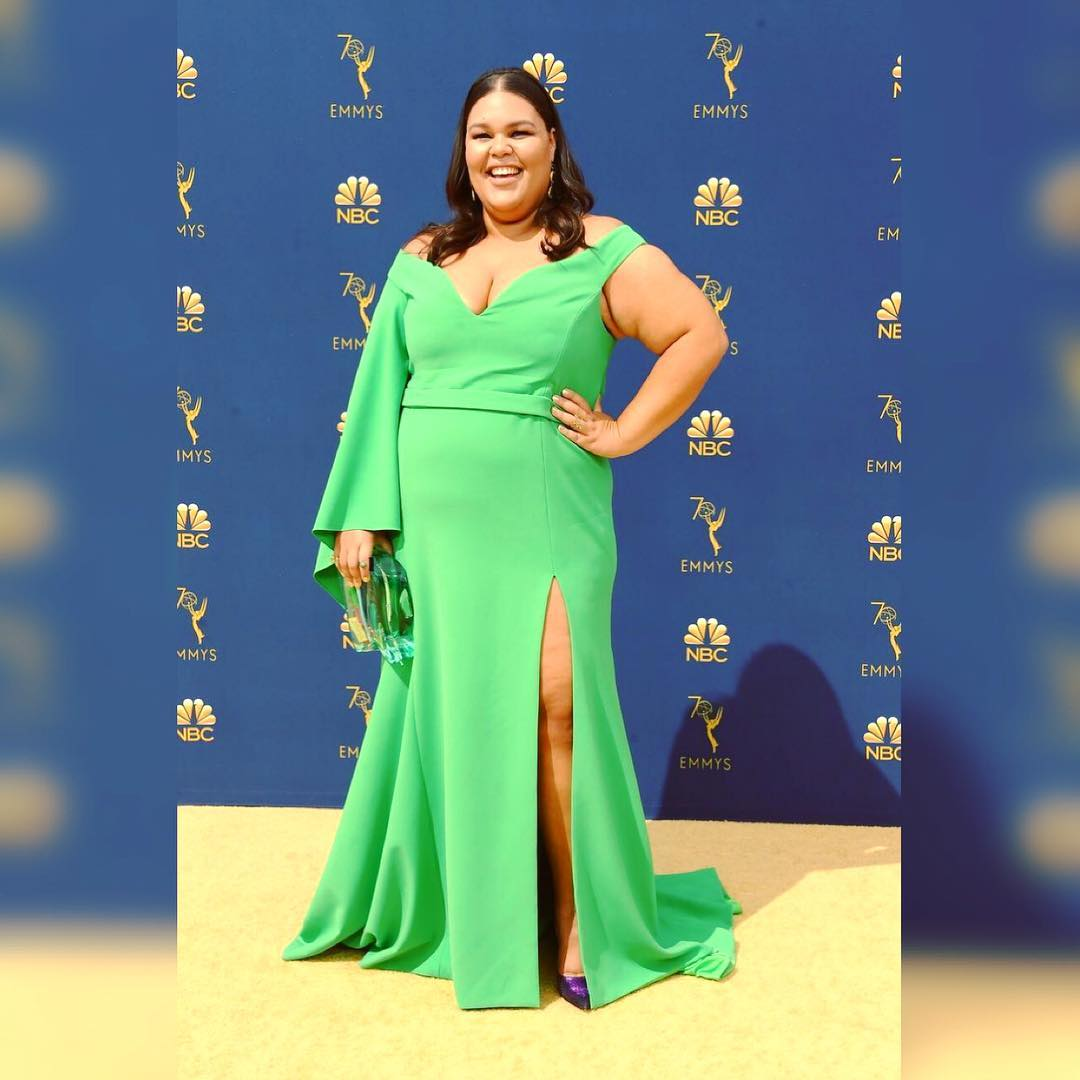hand: (550, 395, 619, 444)
